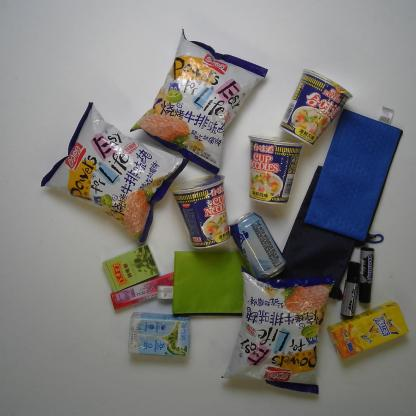Alcohol: (224, 210, 290, 284)
Candy: (97, 242, 163, 297), (106, 270, 179, 312)
Drink: (324, 300, 412, 360)
Instant Noodles: (278, 64, 354, 149), (164, 170, 233, 256), (244, 129, 306, 207)
Milk: (125, 308, 193, 364)
Puffed Food: (35, 98, 192, 246), (125, 26, 272, 178), (219, 262, 338, 402)
Stationery: (273, 162, 377, 302), (302, 107, 406, 246), (168, 246, 250, 323), (338, 260, 362, 322), (356, 243, 376, 305)
